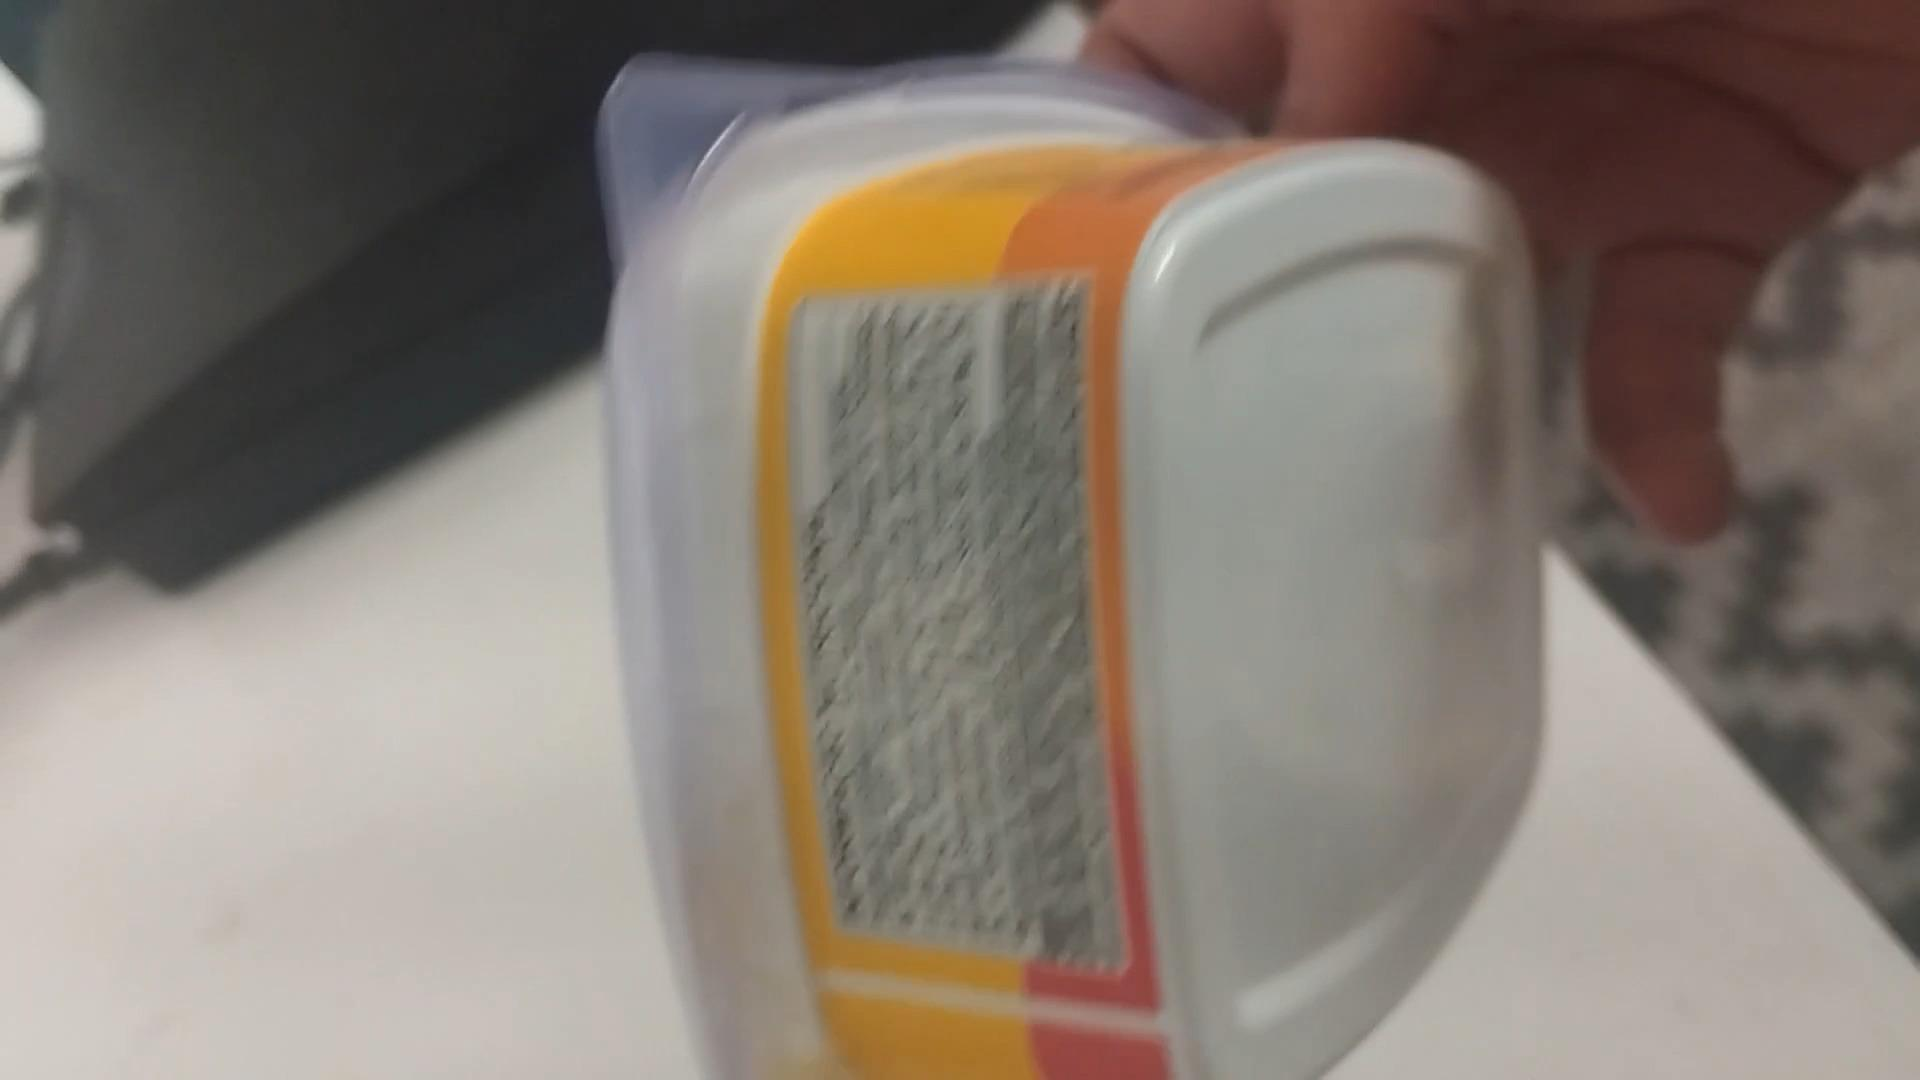butter: (587, 51, 1540, 1080)
